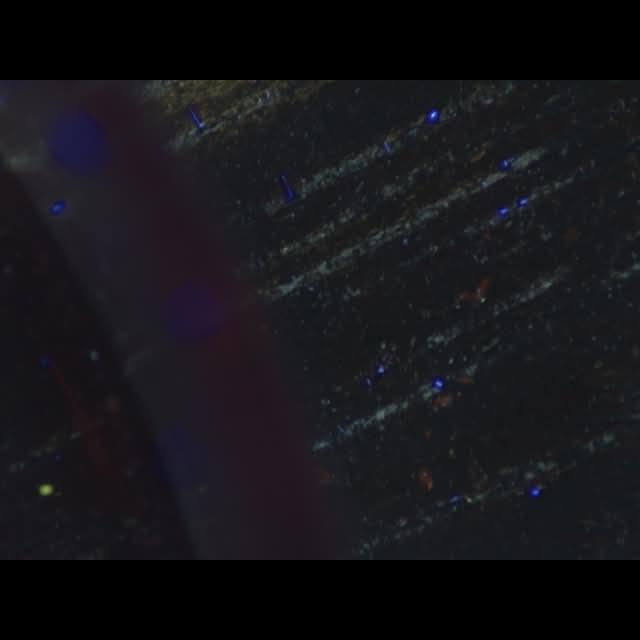microbeads: (40, 484, 54, 496)
